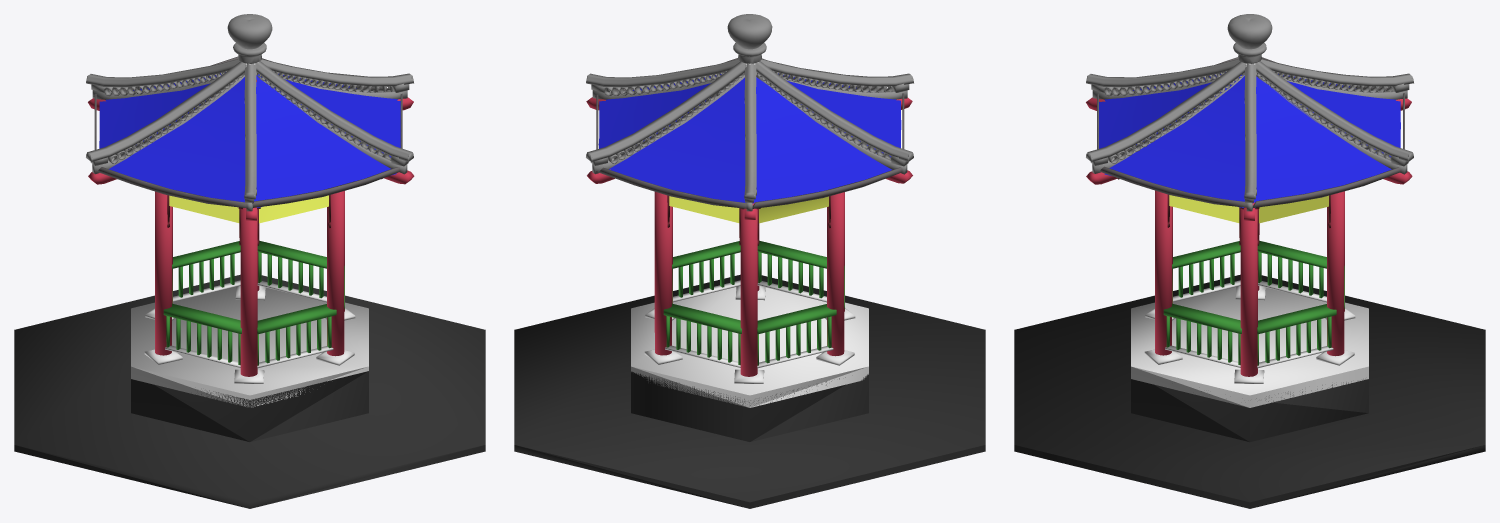
The model's file is 乱码亭子.fbx.
3 renders of one model, left to right at view 1: azimuth 30°, elevation 25°; view 2: azimuth 150°, elevation 25°; view 3: azimuth 270°, elevation 25°, orthographic.
Visible parts, largest first — view 1: ͷ04; view 2: ͷ04; view 3: ͷ04.
Part boxes in pixels (x1=…): ͷ04: x1=14, y1=14, x2=485, y2=508; ͷ04: x1=514, y1=14, x2=985, y2=508; ͷ04: x1=1014, y1=14, x2=1485, y2=508.
Bounding box in the file's own units: 1159 × 880 × 1004.
